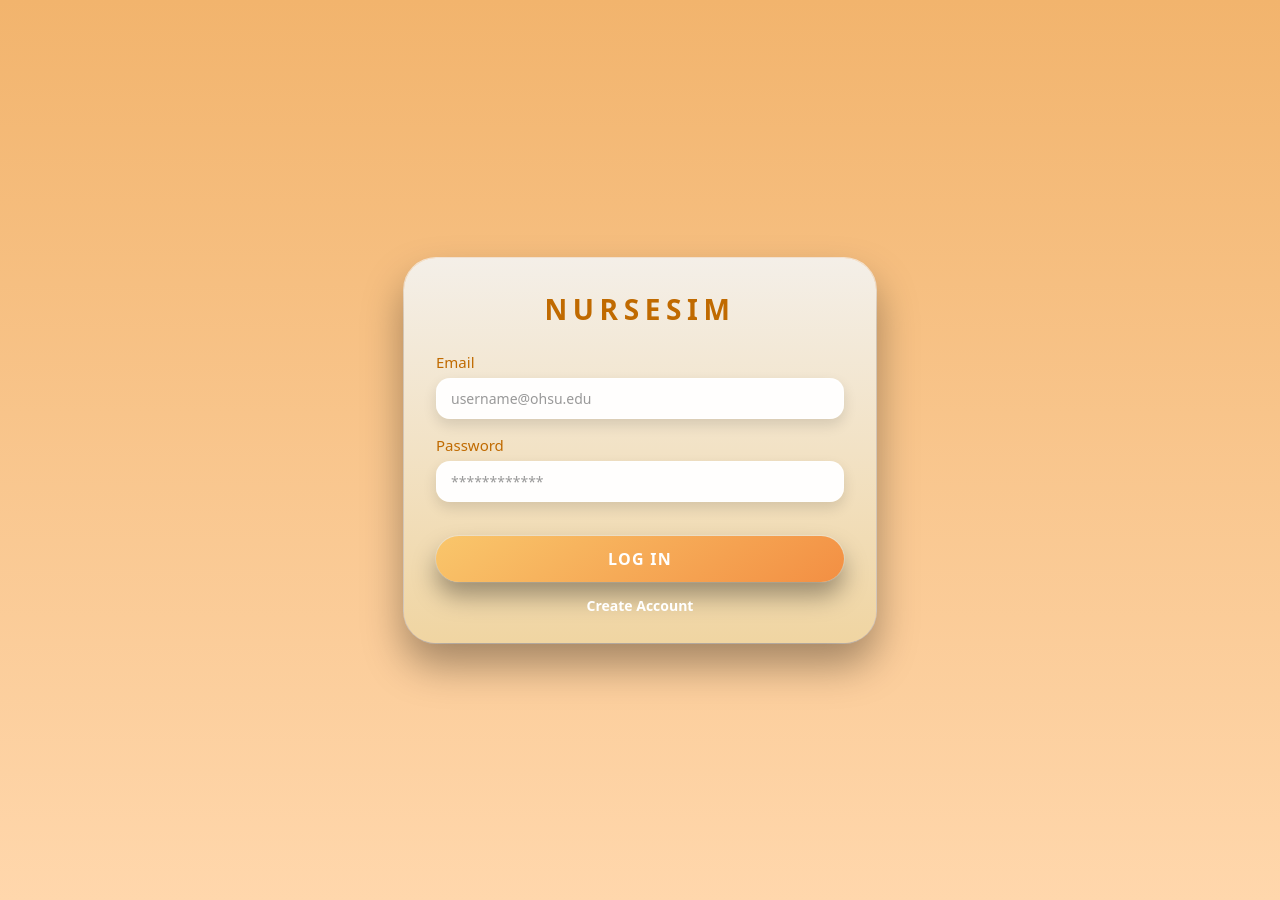
Scenario: LoginPage › shows default error message when login fails without server error message
This screenshot has width=1280, height=900.
Type "test@ohsu.edu" into the field labelled "Email".
click(640, 398); type("test@ohsu.edu")  # box left=436, top=378, right=844, bottom=418
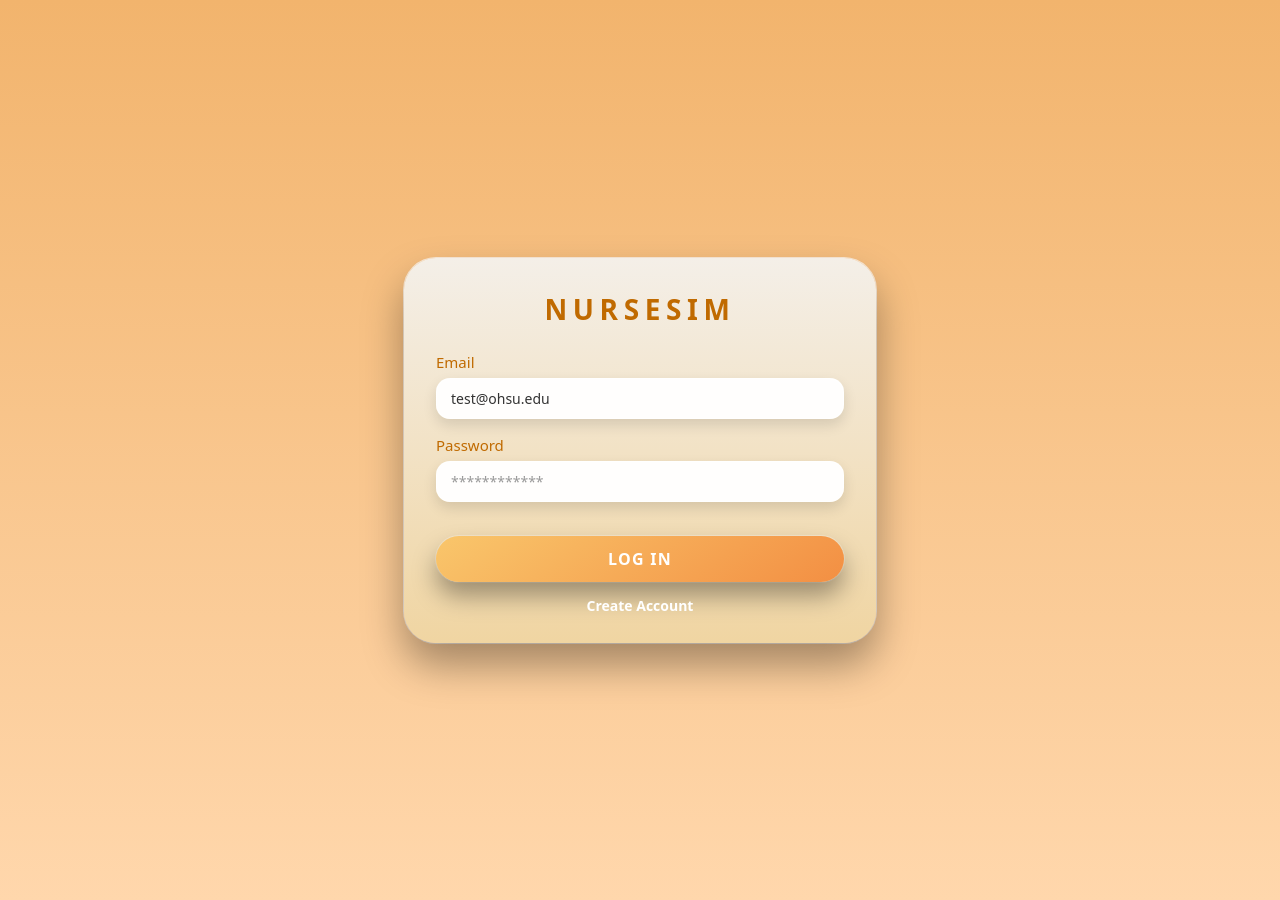
Type "wrongpassword" into the password field labelled "Password".
click(640, 481); type("wrongpassword")  # box left=436, top=460, right=844, bottom=502
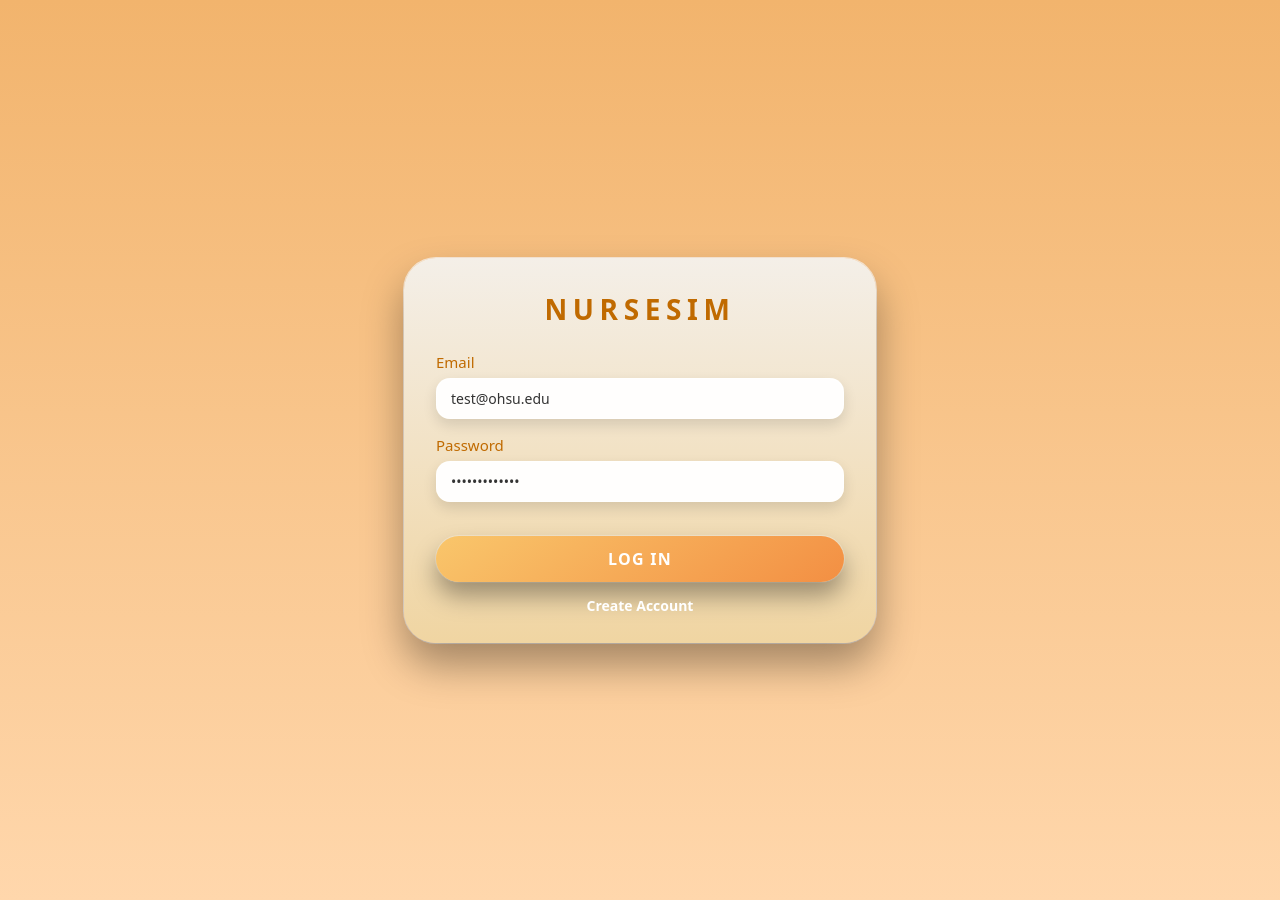
Click the button "Log In".
click(640, 558)  # box left=436, top=536, right=844, bottom=582
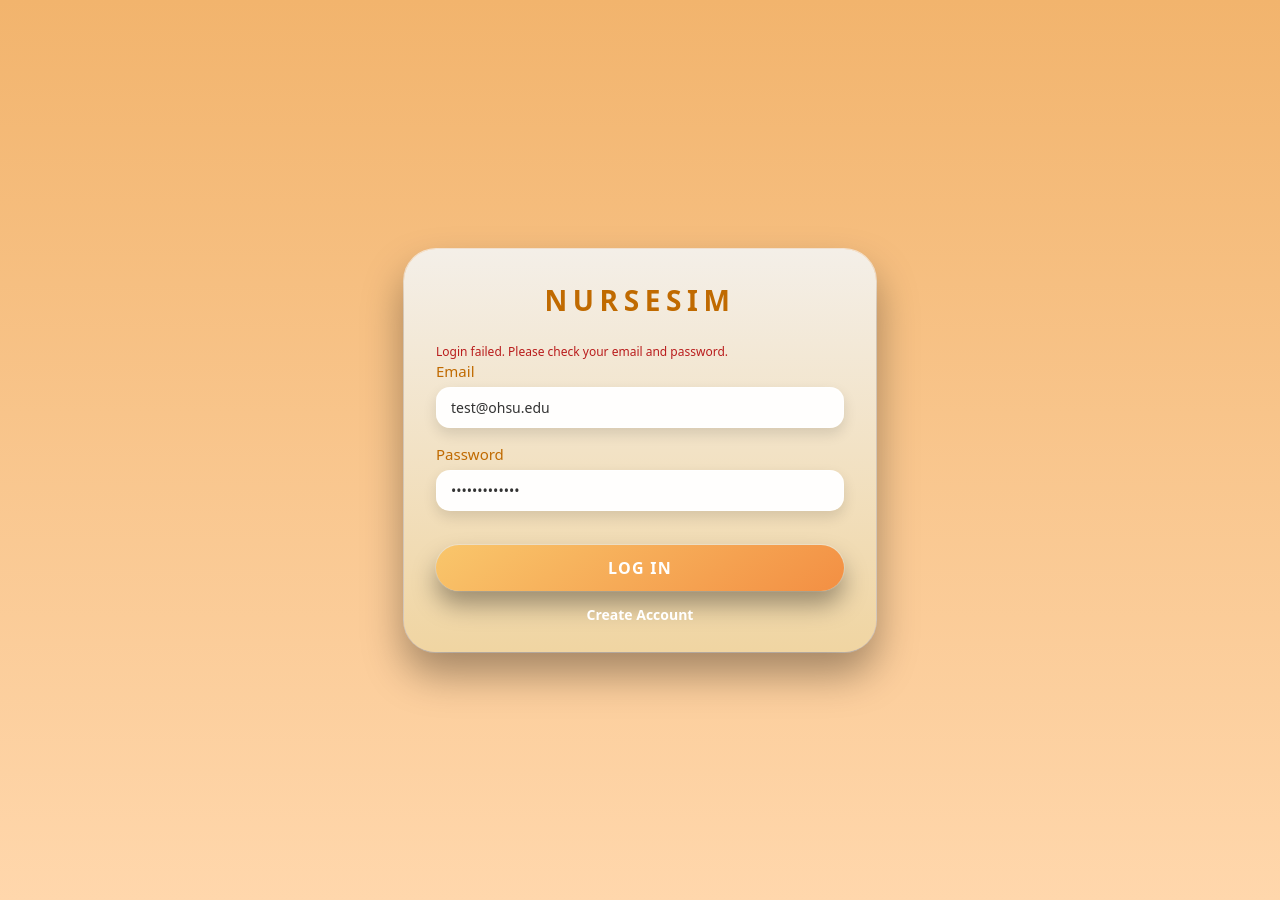
Expected: the text "Login failed. Please check your email and password." is shown, left=436, top=342, right=728, bottom=360
